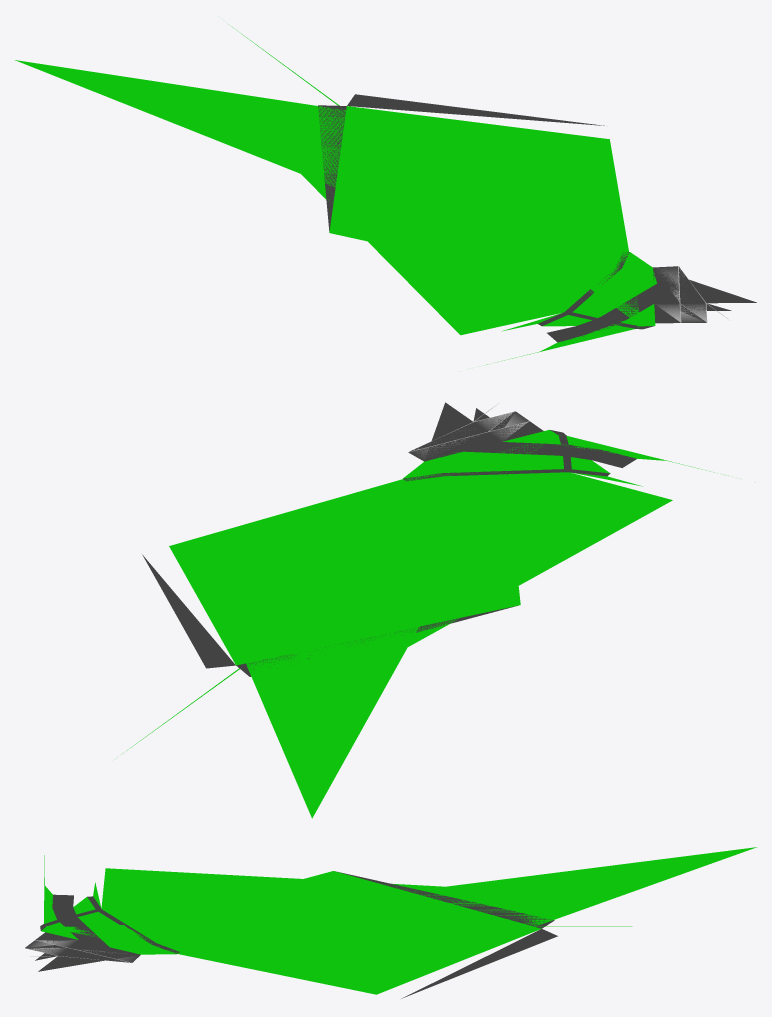
3 views of the same model, one above another, from view 1: azimuth 30°, elevation 25°; view 2: azimuth 150°, elevation 25°; view 3: azimuth 270°, elevation 25° (orthographic). The views are drawn at different scales.
Size of the model in its own units: 61.44 by 0.001 by 124.
